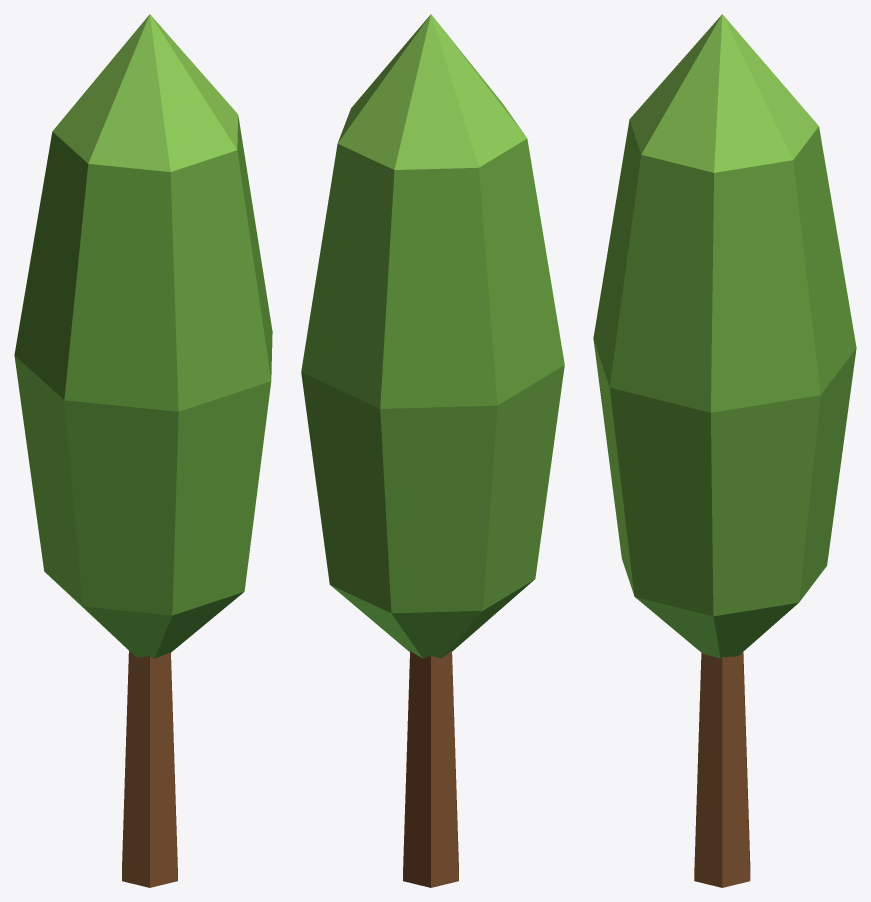
Rendered from tree_tall.glb.
3 views of the same model, side by side, from view 1: azimuth 30°, elevation 25°; view 2: azimuth 150°, elevation 25°; view 3: azimuth 270°, elevation 25° (orthographic).
Visible parts, largest first — view 1: tree_tall; view 2: tree_tall; view 3: tree_tall.
Boxes of the visible parts, left/top/right/bottom form: tree_tall: left=14, top=14, right=272, bottom=887; tree_tall: left=301, top=14, right=564, bottom=887; tree_tall: left=593, top=14, right=856, bottom=887.
Size of the model in its own units: 0.4055 by 1.47 by 0.408.
Materials: 1 (1 with a texture image).
